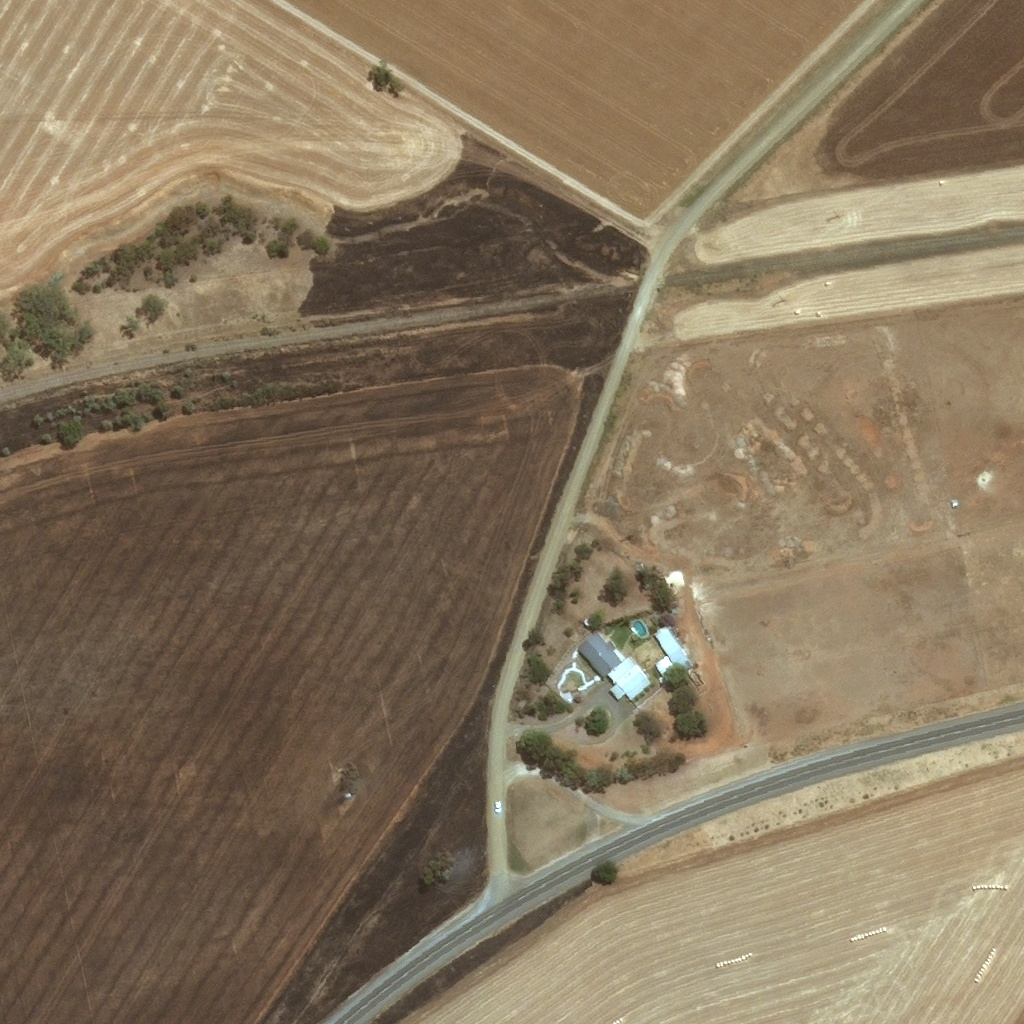0 no-damage: (577, 628, 652, 701), (653, 625, 689, 667), (653, 656, 672, 674), (583, 617, 593, 628)
4 un-classified: (945, 481, 953, 487)
